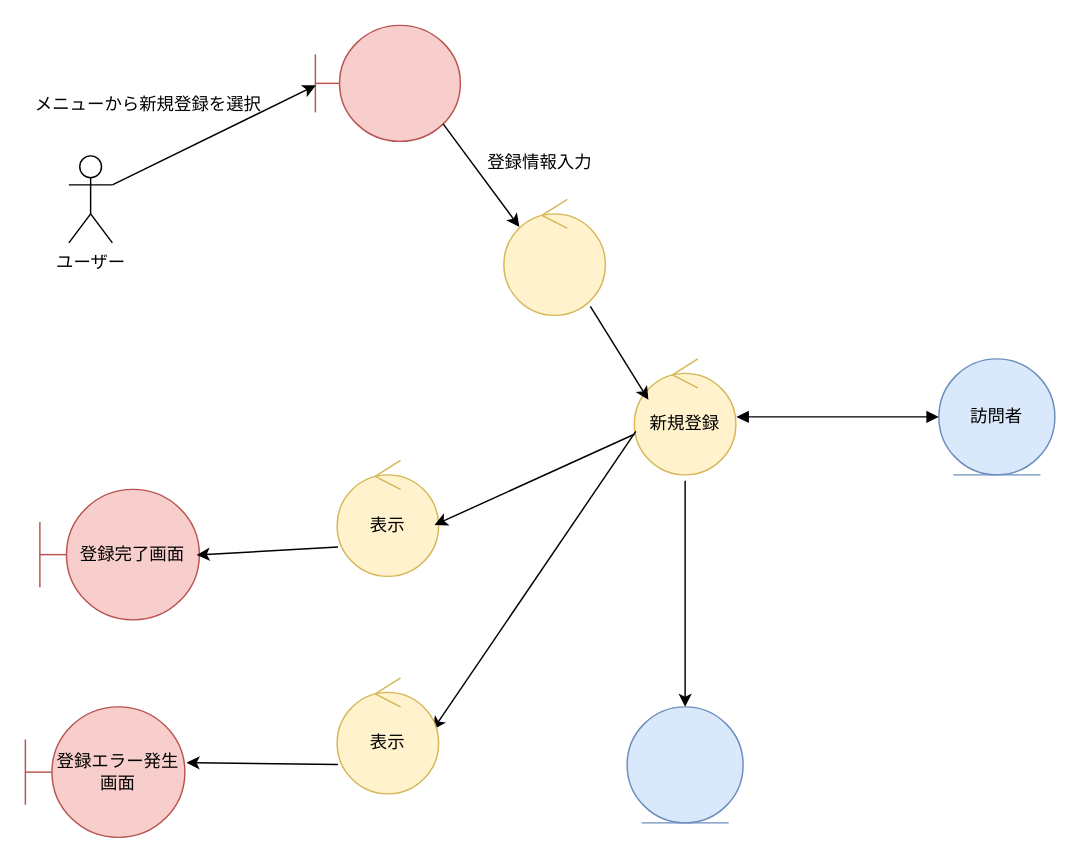
This 1080x863 diagram has some shape labels left out. Each missing label, with the centre of its shape:
"データベース" belongs at point (684, 764).
"新規登録画面" belongs at point (387, 82).
"登録情報" belongs at point (553, 256).
